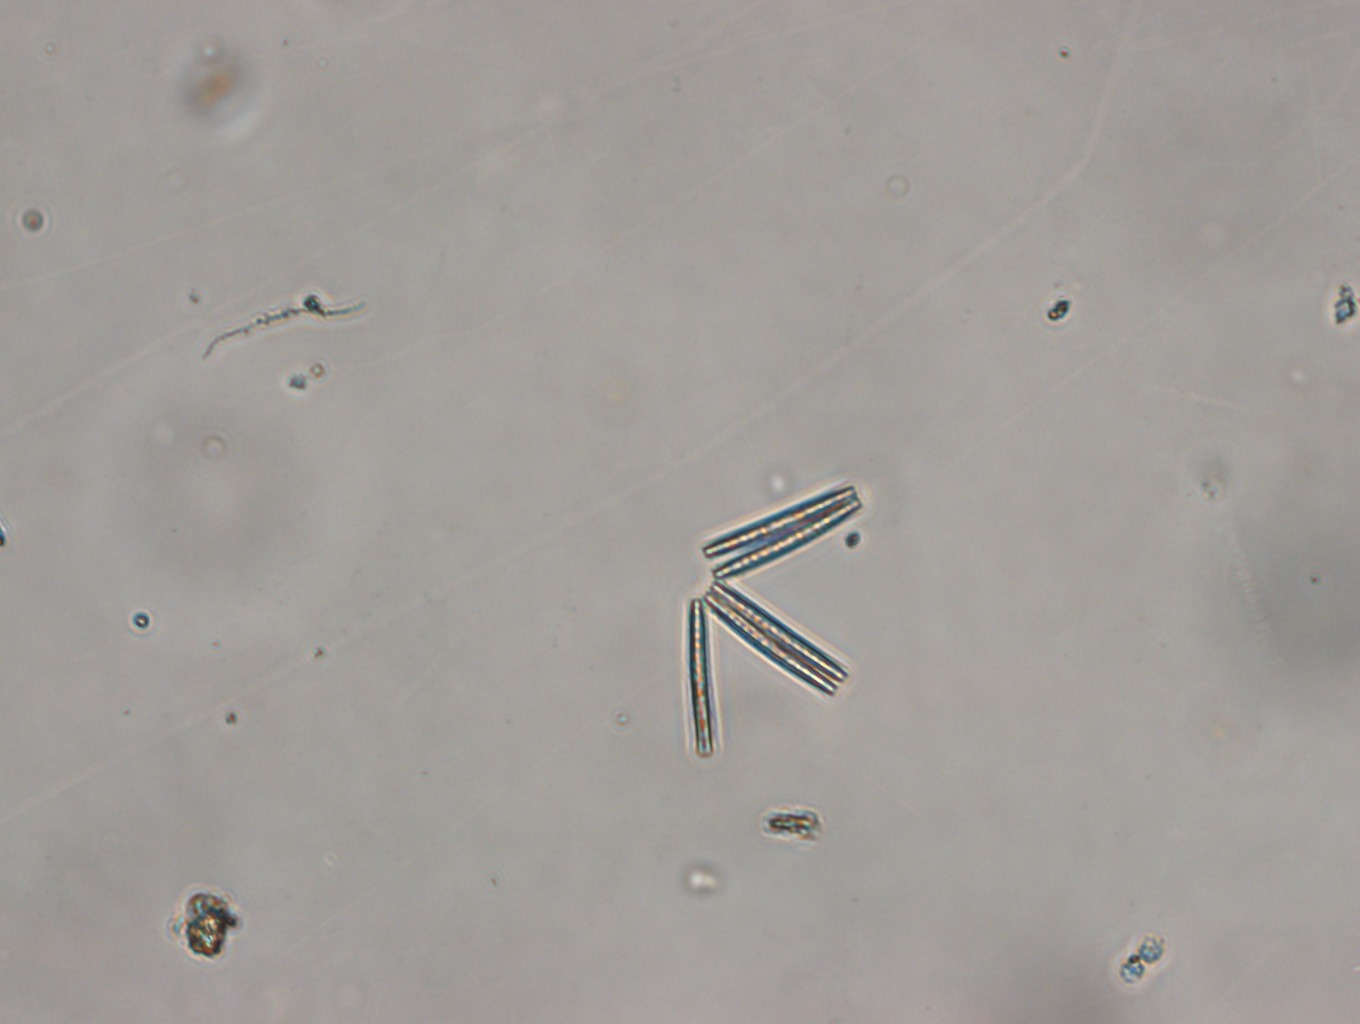thalassionema nitzschioides: (678, 478, 865, 760)
